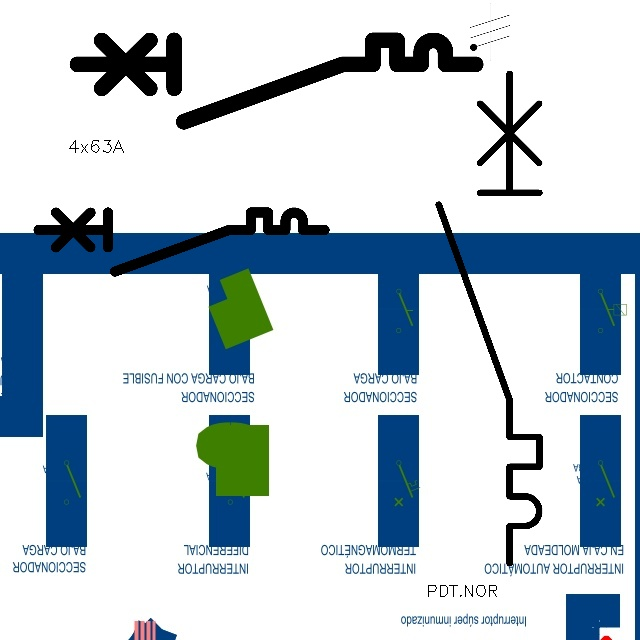interruptor_termomagnetico: (426, 61, 552, 576), (67, 30, 486, 132), (31, 205, 332, 278)
